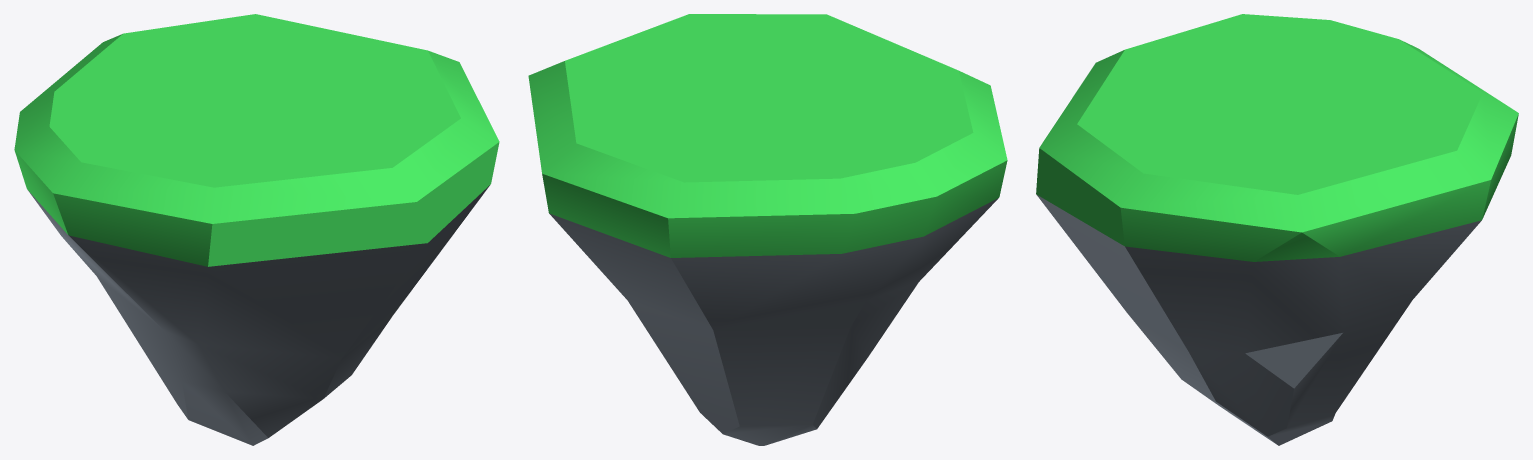
The model's file is island_05.fbx.
The picture shows the model from 3 angles, left to right: view 1: azimuth 30°, elevation 25°; view 2: azimuth 150°, elevation 25°; view 3: azimuth 270°, elevation 25°; orthographic projection. The views are drawn at different scales.
Parts seen in each view (by area): view 1: Island.002; view 2: Island.002; view 3: Island.002.
Boxes of the visible parts, x1,y1,x2,y2 form: Island.002: (14,14,499,445); Island.002: (528,14,1007,445); Island.002: (1036,14,1518,445).
Bounding box in the file's own units: 706 × 526 × 679.
